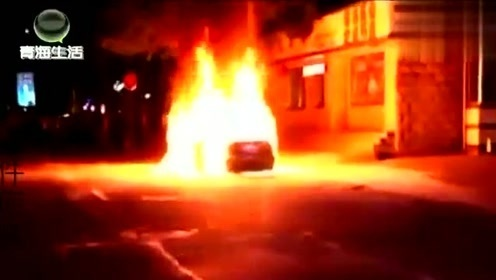fire: (153, 44, 284, 177)
